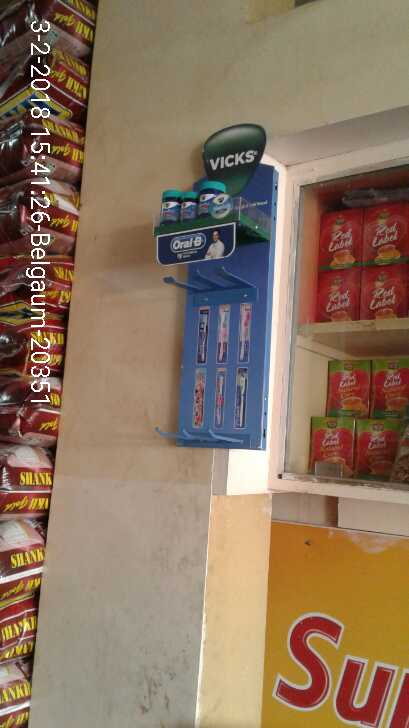vicks: (153, 178, 238, 227)
